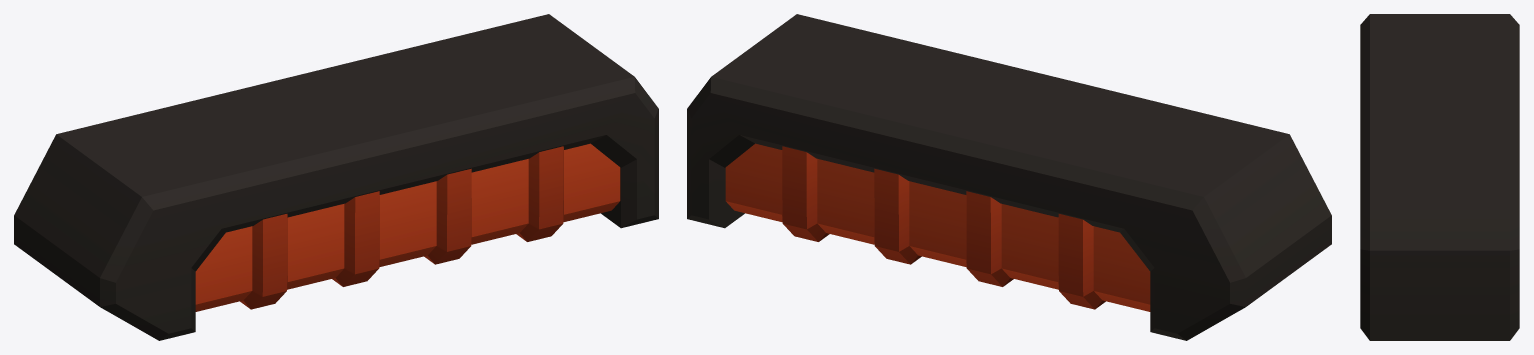
File: Shotgun3_Bolt.fbx
3 views of the same model, side by side, from view 1: azimuth 30°, elevation 25°; view 2: azimuth 150°, elevation 25°; view 3: azimuth 270°, elevation 25° (orthographic). The views are drawn at different scales.
Visible parts, largest first — view 1: Shotgun3_Bolt; view 2: Shotgun3_Bolt; view 3: Shotgun3_Bolt.
Boxes of the visible parts, left/top/right/bottom form: Shotgun3_Bolt: left=14, top=14, right=658, bottom=340; Shotgun3_Bolt: left=687, top=14, right=1331, bottom=340; Shotgun3_Bolt: left=1360, top=14, right=1519, bottom=340.
Size of the model in its own units: 20.78 by 5.26 by 6.28.
